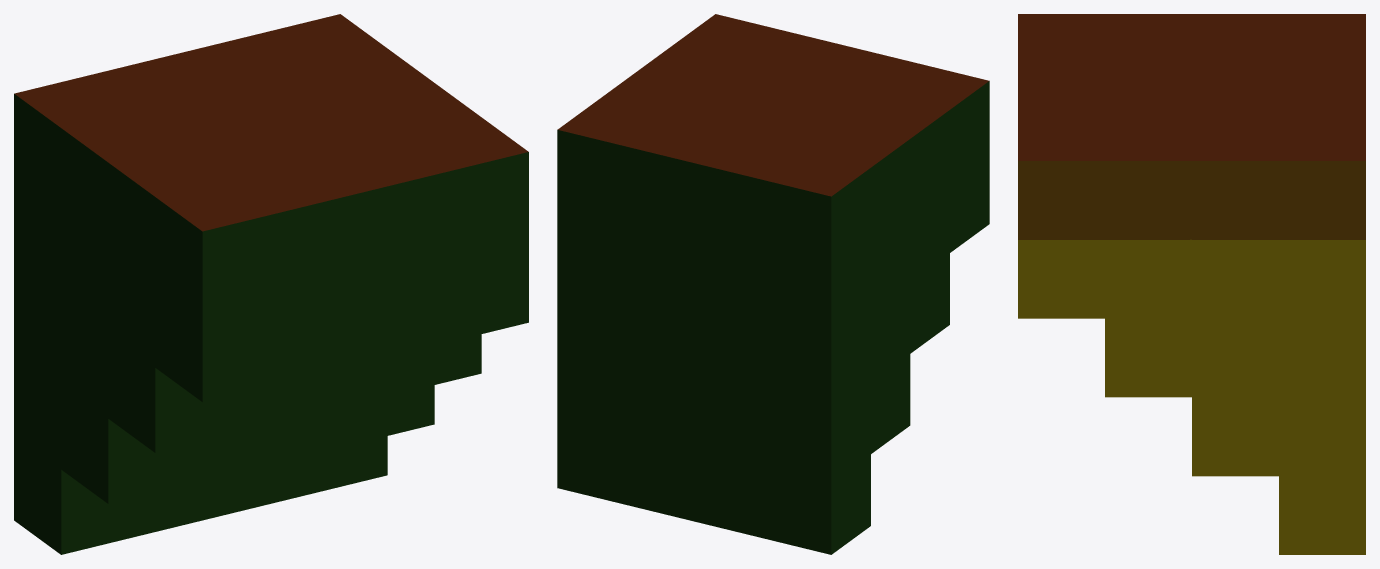
Rendered from block_21.fbx.
The picture shows the model from 3 angles, left to right: view 1: azimuth 30°, elevation 25°; view 2: azimuth 150°, elevation 25°; view 3: azimuth 270°, elevation 25°; orthographic projection. The views are drawn at different scales.
Visible parts, largest first — view 1: box.006; view 2: box.006; view 3: box.006.
Boxes of the visible parts, x1,y1,x2,y2 form: box.006: (14,14,528,554); box.006: (557,14,989,554); box.006: (1018,14,1365,554).
Bounding box in the file's own units: 4000 × 5000 × 4000.
